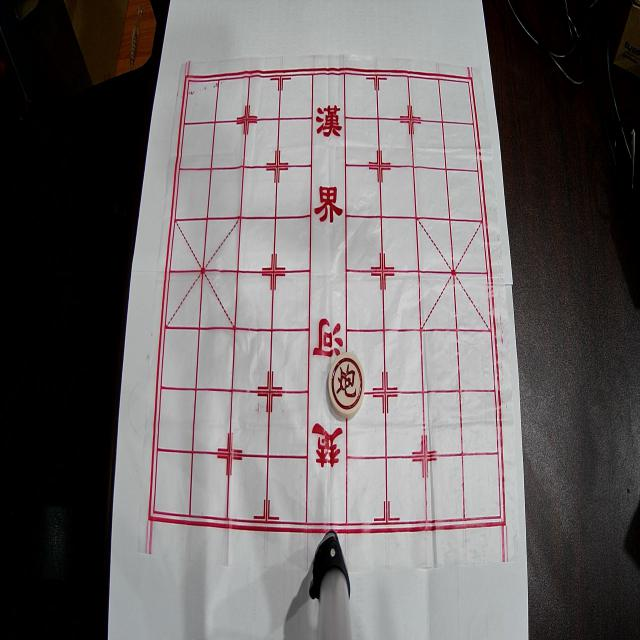red-cannon: (329, 352, 365, 418)
